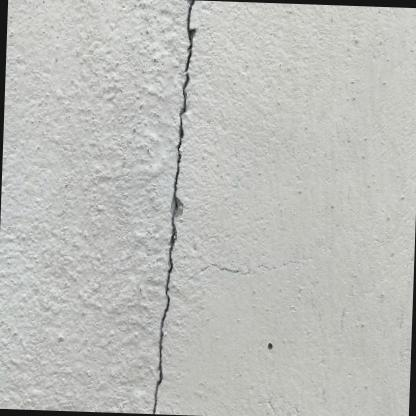crack: (152, 0, 194, 414)
